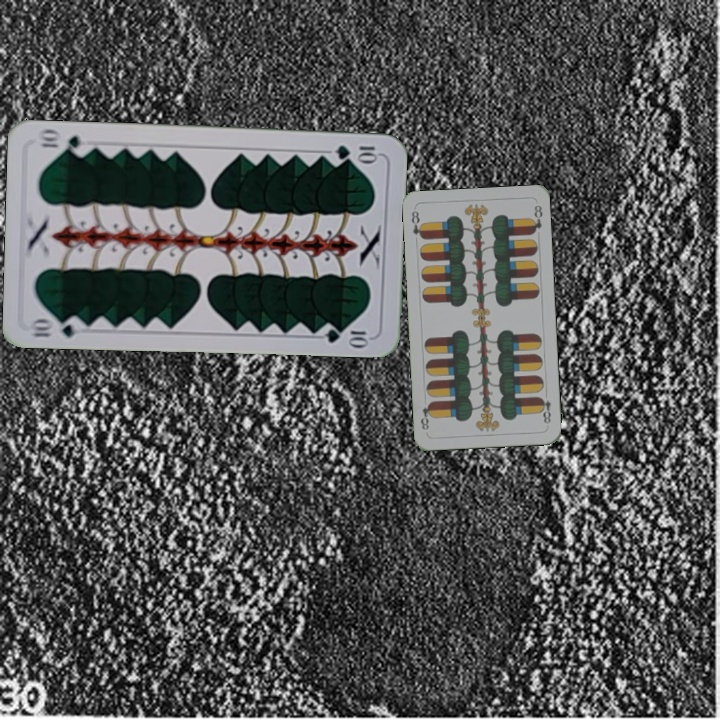E8: (407, 206, 426, 241), (536, 393, 553, 426)
G10: (27, 313, 86, 340), (331, 141, 381, 163)
